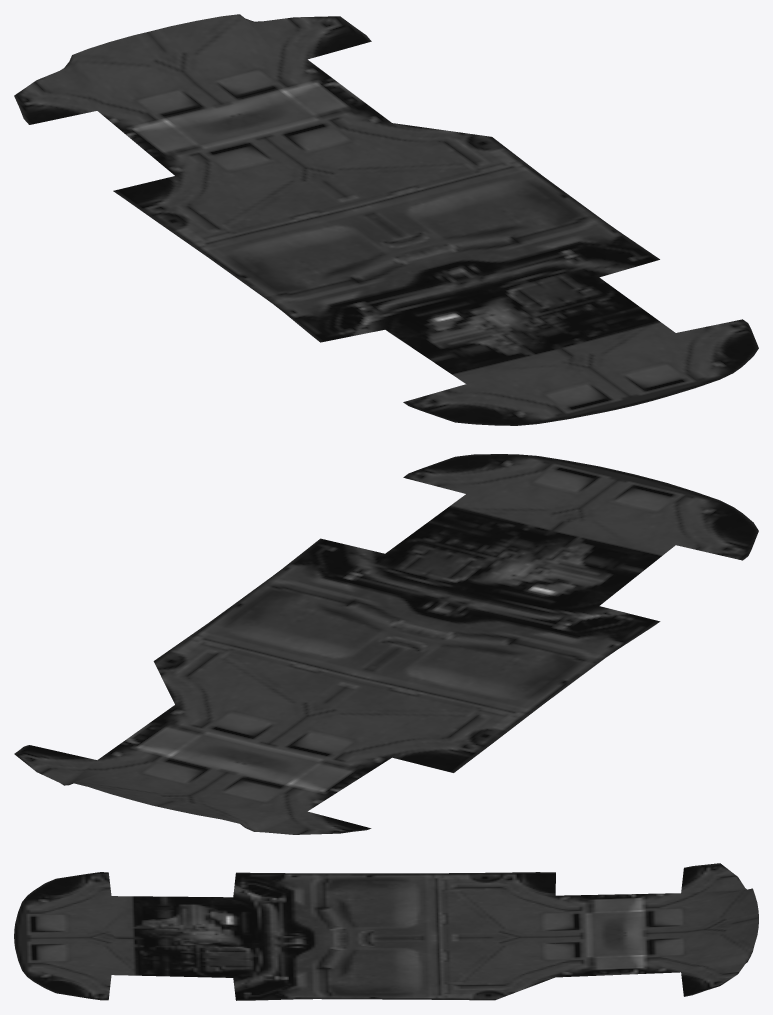
File: 10Alt.fbx
The picture shows the model from 3 angles, top to bottom: view 1: azimuth 30°, elevation 25°; view 2: azimuth 150°, elevation 25°; view 3: azimuth 270°, elevation 25°; orthographic projection. The views are drawn at different scales.
Visible parts, largest first — view 1: Object001; view 2: Object001; view 3: Object001.
Part boxes in pixels (box(x1,y1,x2,y2)): Object001: box(14, 14, 758, 425); Object001: box(14, 454, 758, 834); Object001: box(14, 863, 758, 1000).
Bounding box in the file's own units: 1860 × 132 × 4533.
